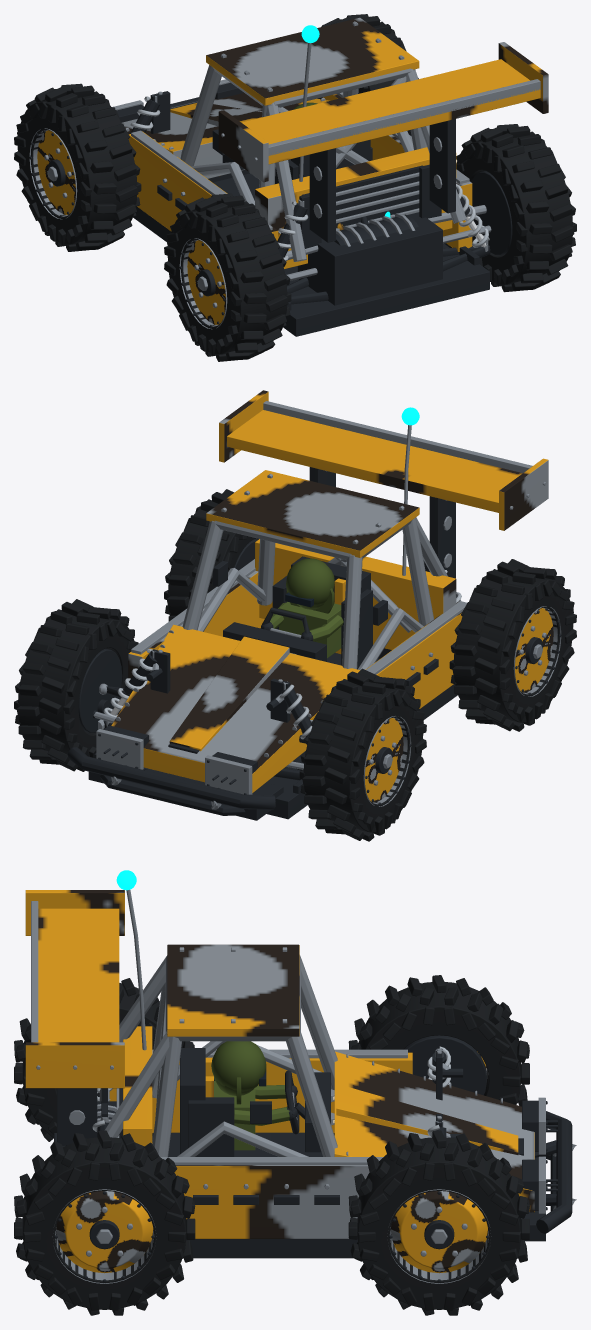
File: buggy.glb
3 views of the same model, one above another, from view 1: azimuth 30°, elevation 25°; view 2: azimuth 150°, elevation 25°; view 3: azimuth 270°, elevation 25° (orthographic). The views are drawn at different scales.
Visible parts, largest first — view 1: BuggyBody, Wheel_1_-0.9, Wheel_1_0.92, Wheel_-1_-0.9, Wheel_-1_0.92; view 2: BuggyBody, Wheel_1_-0.9, Wheel_1_0.92, Wheel_-1_0.92, Wheel_-1_-0.9; view 3: BuggyBody, Wheel_-1_-0.9, Wheel_-1_0.92, Wheel_1_0.92, Wheel_1_-0.9.
Boxes of the visible parts, <box> form: BuggyBody: <box>112,17,548,336</box>; Wheel_1_-0.9: <box>164,193,291,361</box>; Wheel_1_0.92: <box>14,83,141,251</box>; Wheel_-1_-0.9: <box>456,124,576,292</box>; Wheel_-1_0.92: <box>317,14,418,135</box>; BuggyBody: <box>67,390,548,820</box>; Wheel_1_-0.9: <box>449,559,576,731</box>; Wheel_1_0.92: <box>299,668,426,841</box>; Wheel_-1_0.92: <box>14,599,138,771</box>; Wheel_-1_-0.9: <box>164,489,258,621</box>; BuggyBody: <box>25,870,576,1258</box>; Wheel_-1_-0.9: <box>14,1130,195,1315</box>; Wheel_-1_0.92: <box>348,1130,529,1315</box>; Wheel_1_0.92: <box>348,975,529,1106</box>; Wheel_1_-0.9: <box>14,978,194,1141</box>.
Bounding box in the file's own units: 2.39 × 1.98 × 3.06.
12 materials, 1 textured.
